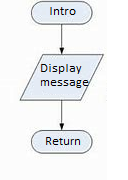arrow: (58, 99, 67, 131), (58, 24, 66, 55)
data: (17, 52, 104, 101)
terminator: (30, 129, 93, 155), (30, 1, 93, 26)
text: (39, 62, 89, 89), (45, 135, 82, 146), (48, 5, 77, 16)
